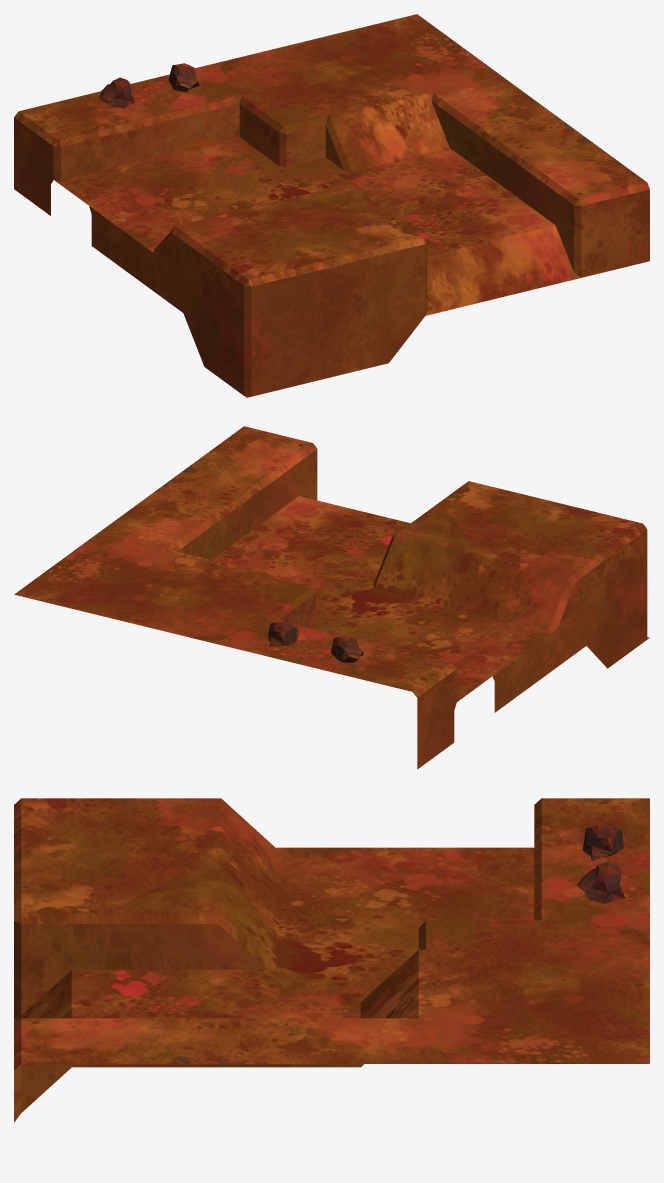
The model's file is lvl_2-cnk_0.obj.
3 renders of one model, top to bottom at view 1: azimuth 30°, elevation 25°; view 2: azimuth 150°, elevation 25°; view 3: azimuth 270°, elevation 25°, orthographic. The views are drawn at different scales.
Visible parts, largest first — view 1: chunk.007, Icosphere.028, Icosphere.027; view 2: chunk.007, Icosphere.028, Icosphere.027; view 3: chunk.007, Icosphere.027, Icosphere.028.
Part boxes in pixels (bbox=[...]): chunk.007: bbox=[14, 14, 649, 397]; Icosphere.028: bbox=[99, 77, 135, 108]; Icosphere.027: bbox=[168, 63, 199, 91]; chunk.007: bbox=[14, 426, 649, 769]; Icosphere.028: bbox=[331, 634, 363, 662]; Icosphere.027: bbox=[268, 621, 298, 647]; chunk.007: bbox=[14, 798, 649, 1122]; Icosphere.027: bbox=[576, 861, 625, 903]; Icosphere.028: bbox=[582, 823, 623, 860].
Bounding box in the file's own units: 99 × 32.41 × 99.
1 material, 1 textured.
